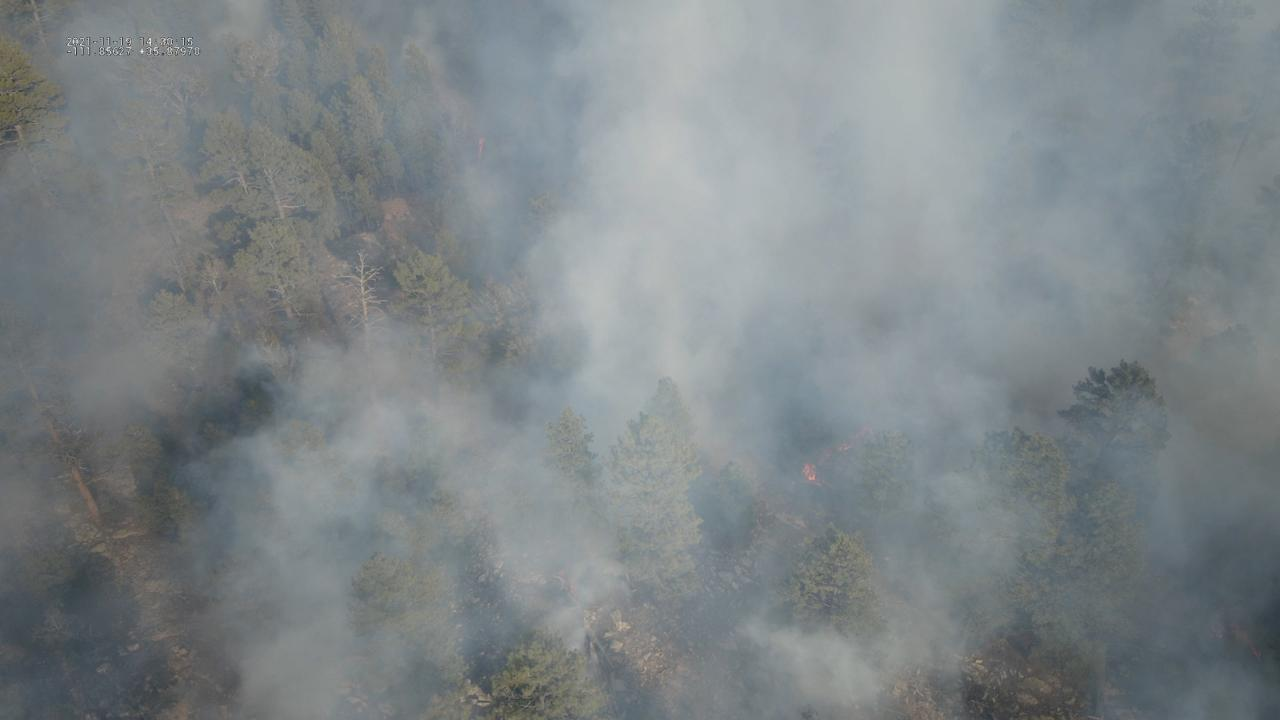fire: (797, 460, 817, 484), (835, 441, 855, 454)
smoke: (0, 0, 1280, 720)
